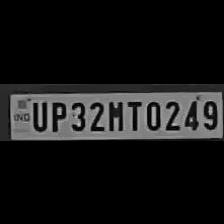0: (144, 97, 162, 130)
2: (86, 97, 104, 131), (162, 97, 180, 130)
3: (68, 97, 86, 130)
4: (180, 96, 200, 130)
9: (200, 96, 218, 130)
M: (105, 97, 125, 131)
P: (47, 97, 66, 131)
T: (125, 97, 143, 130)
U: (29, 97, 47, 130)
